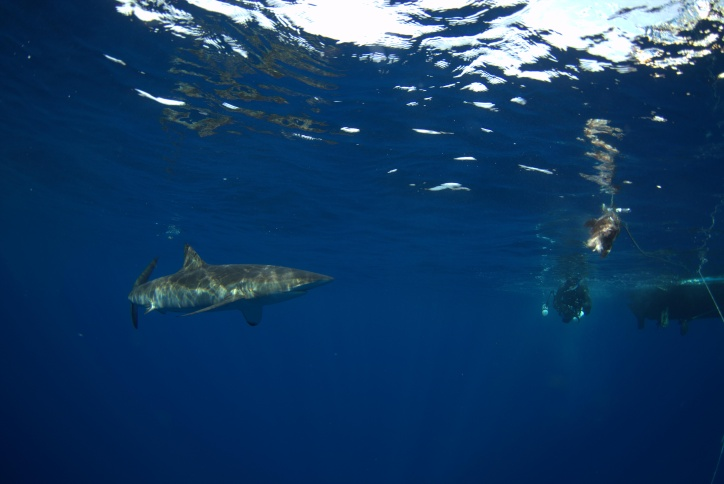Sedoso: (94, 240, 360, 341)
